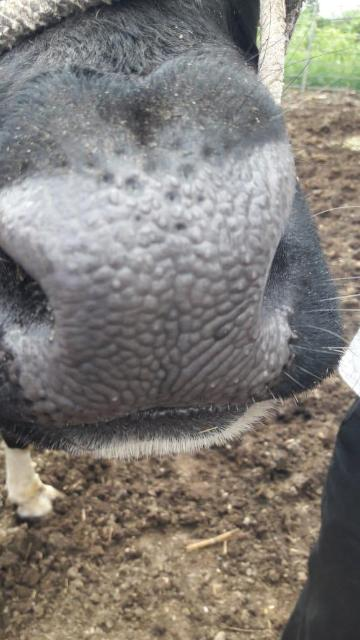Muzzle: (2, 178, 290, 398)
